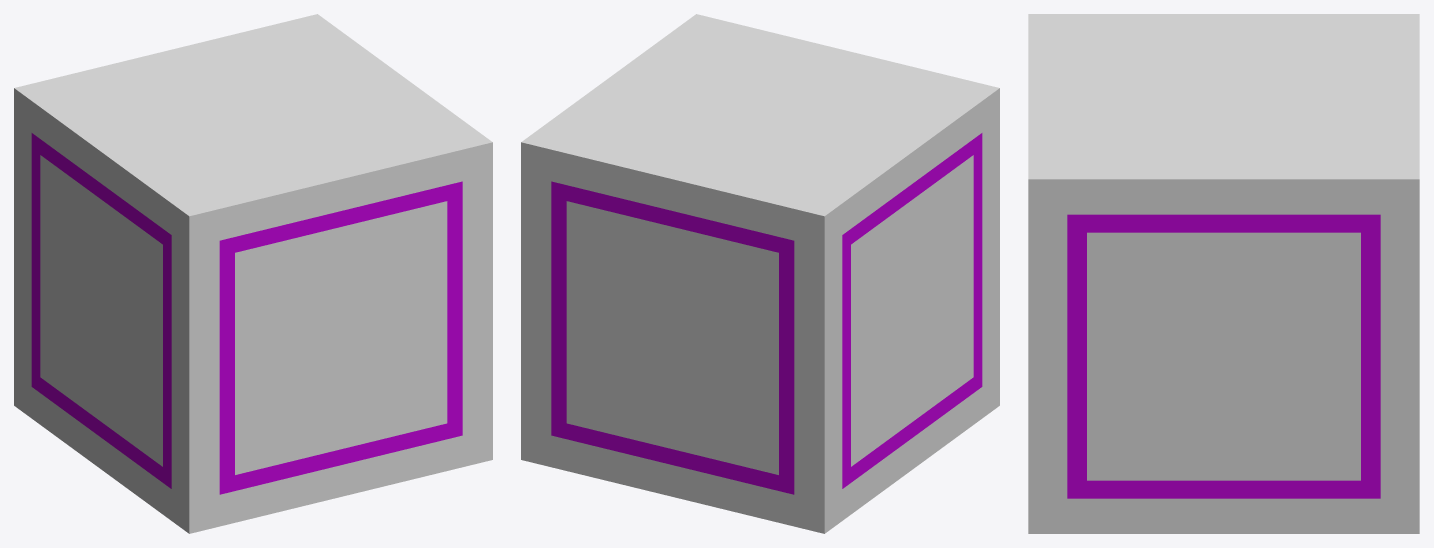
File: StageEntrance_DiscoHill.glb
The picture shows the model from 3 angles, left to right: view 1: azimuth 30°, elevation 25°; view 2: azimuth 150°, elevation 25°; view 3: azimuth 270°, elevation 25°; orthographic projection. The views are drawn at different scales.
Parts seen in each view (by area): view 1: Cube-col; view 2: Cube-col; view 3: Cube-col.
Boxes of the visible parts, x1,y1,x2,y2 form: Cube-col: (14, 14, 492, 533); Cube-col: (521, 14, 999, 533); Cube-col: (1028, 14, 1419, 533).
Size of what is drawn, in the model's own units: 6 by 6 by 6.
